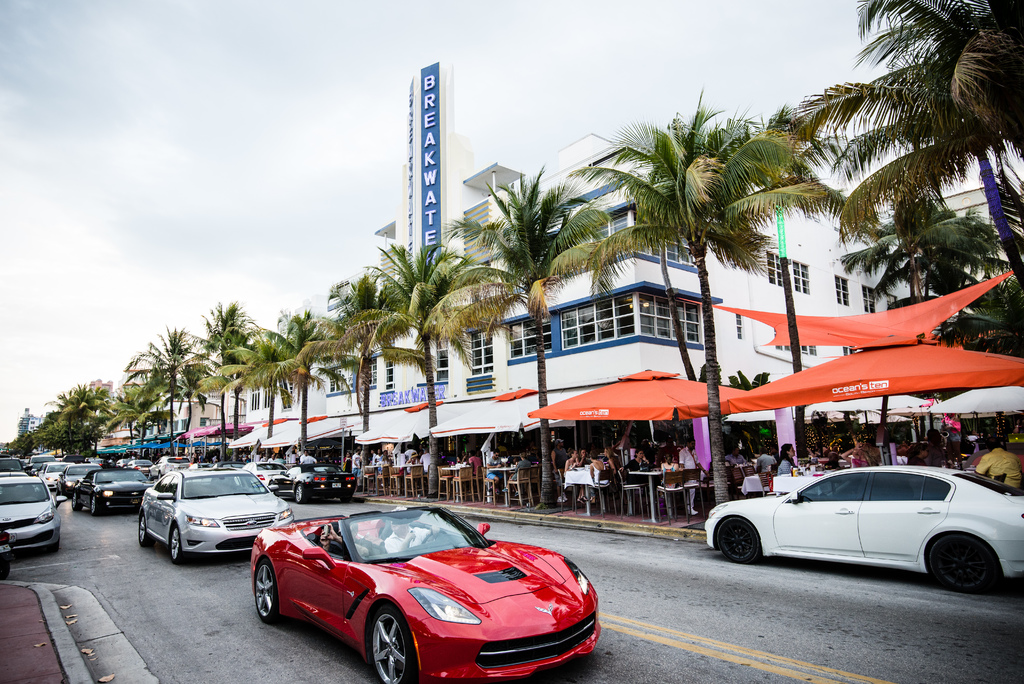Car: (250, 504, 604, 683), (700, 463, 1007, 588), (0, 448, 356, 509), (136, 468, 286, 569), (0, 470, 69, 546)
